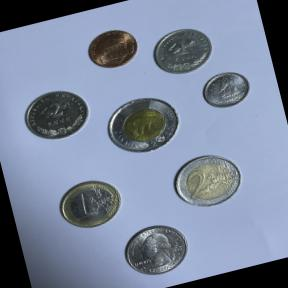1 Euro: (50, 171, 130, 238)
2 Euro: (162, 143, 252, 218)
Canda-10cent-: (194, 64, 258, 117)
Canda-2Dollar-: (97, 86, 190, 166)
Croatia-2Kune-: (12, 78, 100, 150)
US-1cent-: (78, 20, 146, 77)
US-25cent-: (114, 214, 198, 286)
